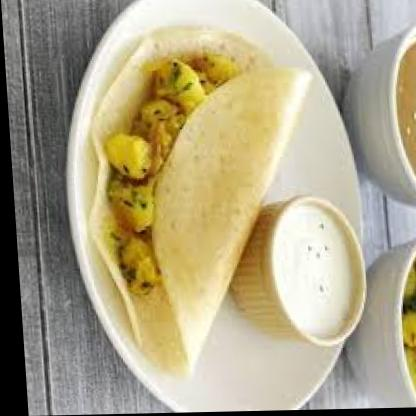dosa: (75, 25, 325, 383)
